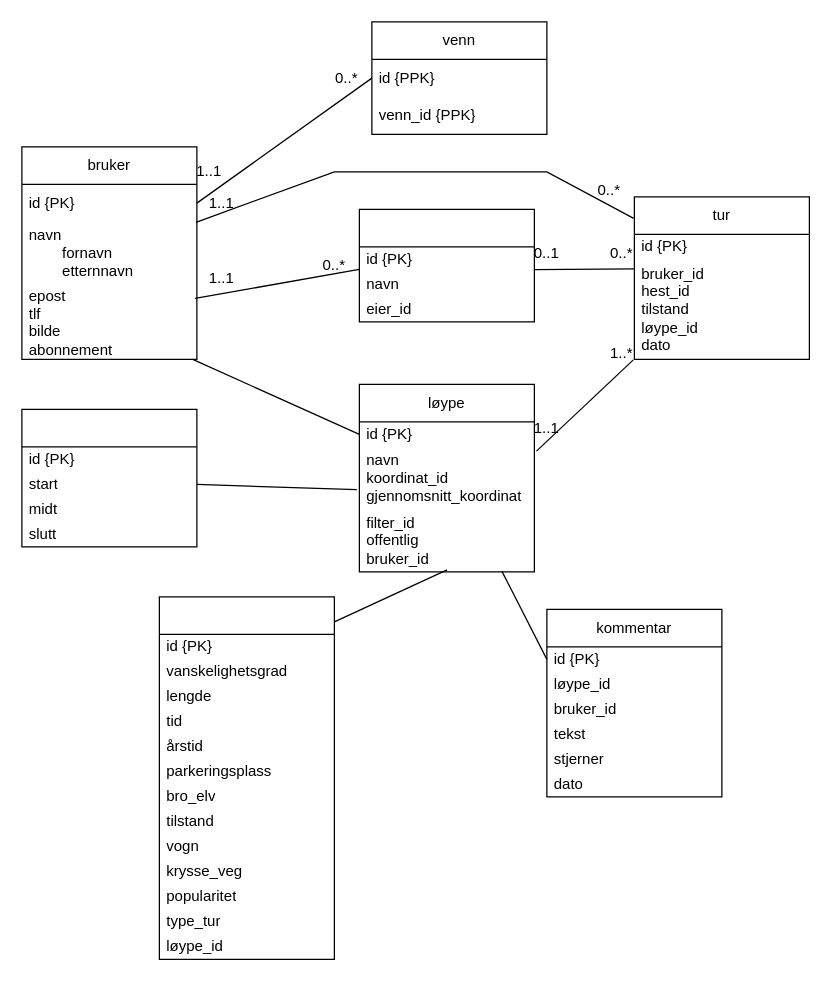
Some shapes in this 831 by 981 pixel diagram are drawn without their labels. Here are the shapes that lost their labels. From the top down, the box of each, then its label:
(358, 208, 534, 322): hest
(21, 408, 197, 547): koordinat
(158, 596, 334, 959): filter
